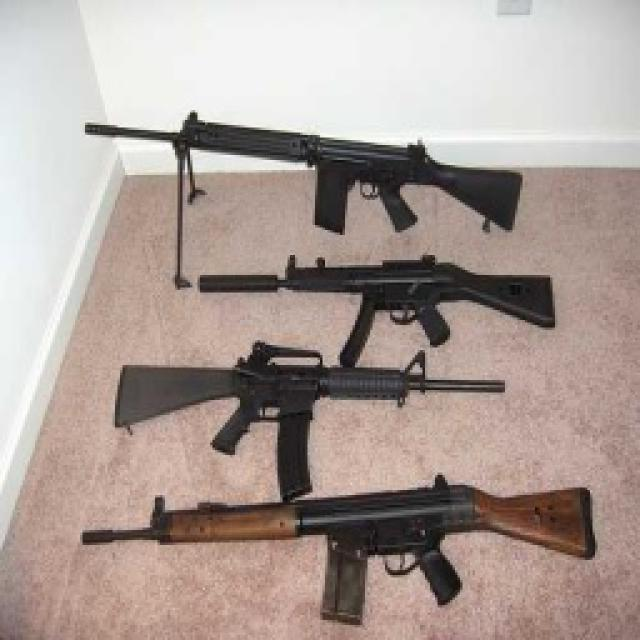long weapon: (72, 436, 600, 624), (171, 218, 636, 354), (104, 324, 522, 474), (93, 119, 554, 233)
